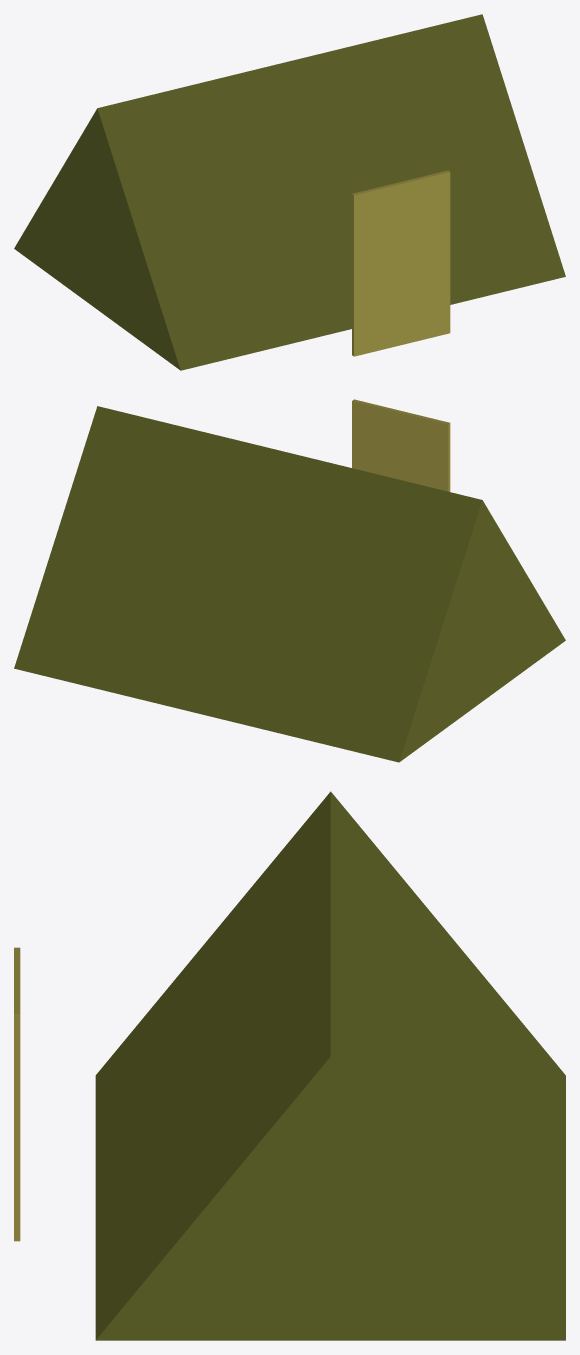
File: SM_Tienda_v0_Militar_LOD0.fbx
The picture shows the model from 3 angles, top to bottom: view 1: azimuth 30°, elevation 25°; view 2: azimuth 150°, elevation 25°; view 3: azimuth 270°, elevation 25°; orthographic projection. The views are drawn at different scales.
Parts seen in each view (by area): view 1: SM_vida_fuerte_v15_LOD0; view 2: SM_vida_fuerte_v15_LOD0; view 3: SM_vida_fuerte_v15_LOD0.
Part boxes in pixels (x1=…): SM_vida_fuerte_v15_LOD0: x1=14, y1=14, x2=565, y2=370; SM_vida_fuerte_v15_LOD0: x1=14, y1=399, x2=565, y2=762; SM_vida_fuerte_v15_LOD0: x1=14, y1=791, x2=565, y2=1340.
Size of the model in its own units: 4 by 2 by 3.52.
